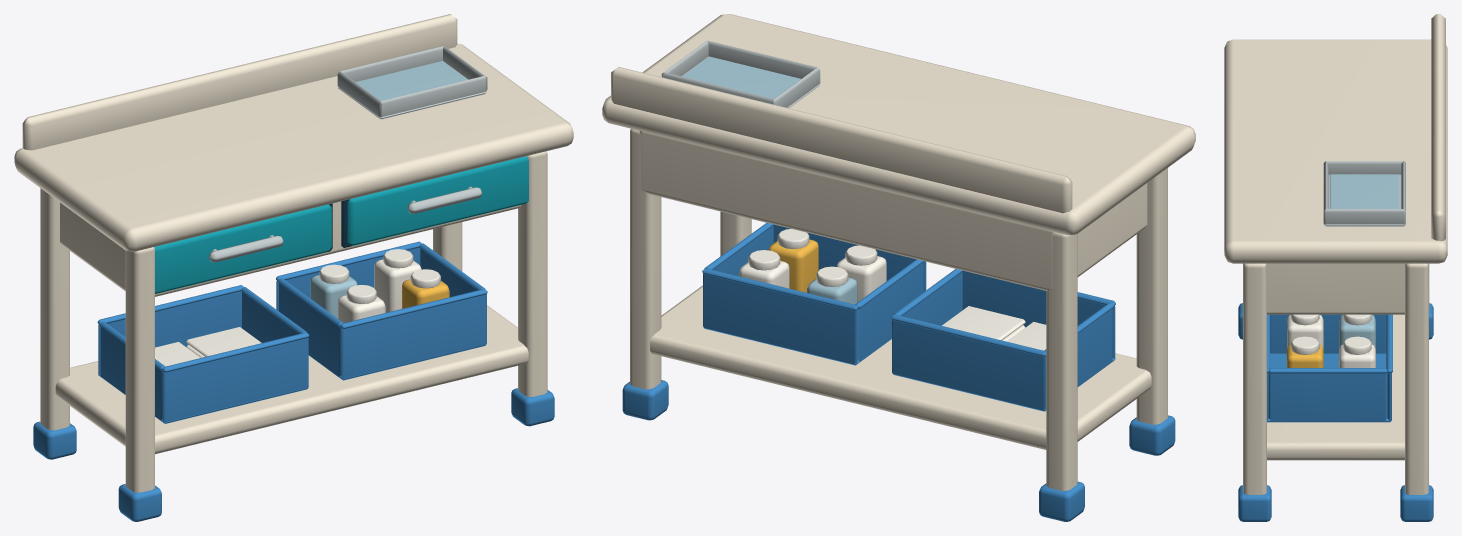
Rendered from medical-15.glb.
3 views of the same model, side by side, from view 1: azimuth 30°, elevation 25°; view 2: azimuth 150°, elevation 25°; view 3: azimuth 270°, elevation 25° (orthographic). The views are drawn at different scales.
Parts seen in each view (by area): view 1: 15_Prep_Counter__counter, 15_Prep_Counter__shelf_bins, 15_Prep_Counter__instrument_tray; view 2: 15_Prep_Counter__counter, 15_Prep_Counter__shelf_bins, 15_Prep_Counter__instrument_tray; view 3: 15_Prep_Counter__counter, 15_Prep_Counter__shelf_bins, 15_Prep_Counter__instrument_tray.
Boxes of the visible parts, x1,y1,x2,y2 form: 15_Prep_Counter__counter: (14,14,573,521); 15_Prep_Counter__shelf_bins: (97,241,487,423); 15_Prep_Counter__instrument_tray: (337,46,487,119); 15_Prep_Counter__counter: (602,14,1195,521); 15_Prep_Counter__shelf_bins: (702,223,1115,411); 15_Prep_Counter__instrument_tray: (661,40,820,108); 15_Prep_Counter__counter: (1224,14,1447,521); 15_Prep_Counter__shelf_bins: (1267,314,1392,422); 15_Prep_Counter__instrument_tray: (1323,161,1405,226).
Bounding box in the file's own units: 1.51 × 1.06 × 0.687.
1 material, 1 textured.
